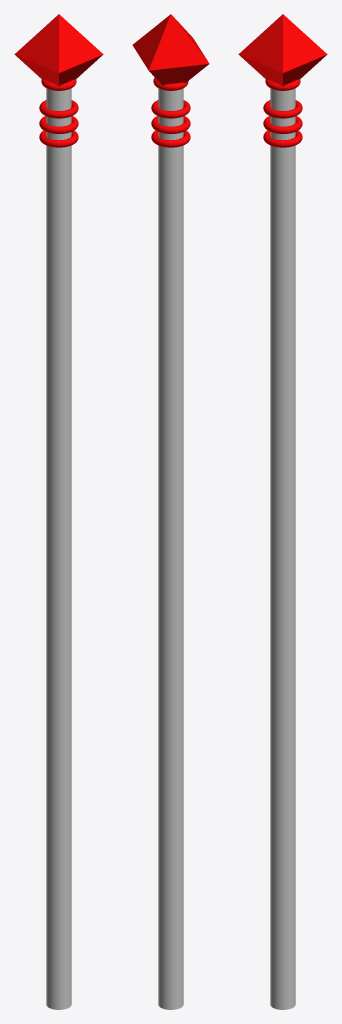
Rendered from stick.fbx.
3 renders of one model, left to right at view 1: azimuth 90°, elevation 25°; view 2: azimuth 150°, elevation 25°; view 3: azimuth 270°, elevation 25°, orthographic.
Visible parts, largest first — view 1: Cylinder, Platonic, Torus_1, Torus, Torus_2, Torus_3; view 2: Cylinder, Platonic, Torus_1, Torus, Torus_2, Torus_3; view 3: Cylinder, Platonic, Torus_1, Torus, Torus_2, Torus_3.
Boxes of the visible parts, x1,y1,x2,y2 form: Cylinder: (46,88,71,1009); Platonic: (14,14,103,86); Torus_1: (39,116,78,133); Torus: (39,100,78,118); Torus_2: (39,130,78,147); Torus_3: (41,79,76,90); Cylinder: (158,88,183,1009); Platonic: (132,14,209,85); Torus_1: (151,116,190,133); Torus: (151,100,190,118); Torus_2: (151,130,190,147); Torus_3: (153,77,188,90); Cylinder: (270,88,295,1009); Platonic: (238,14,327,86); Torus_1: (263,116,302,133); Torus: (263,100,302,118); Torus_2: (263,130,302,147); Torus_3: (265,79,300,90).
Bounding box in the file's own units: 87.36 × 1070 × 87.36.
